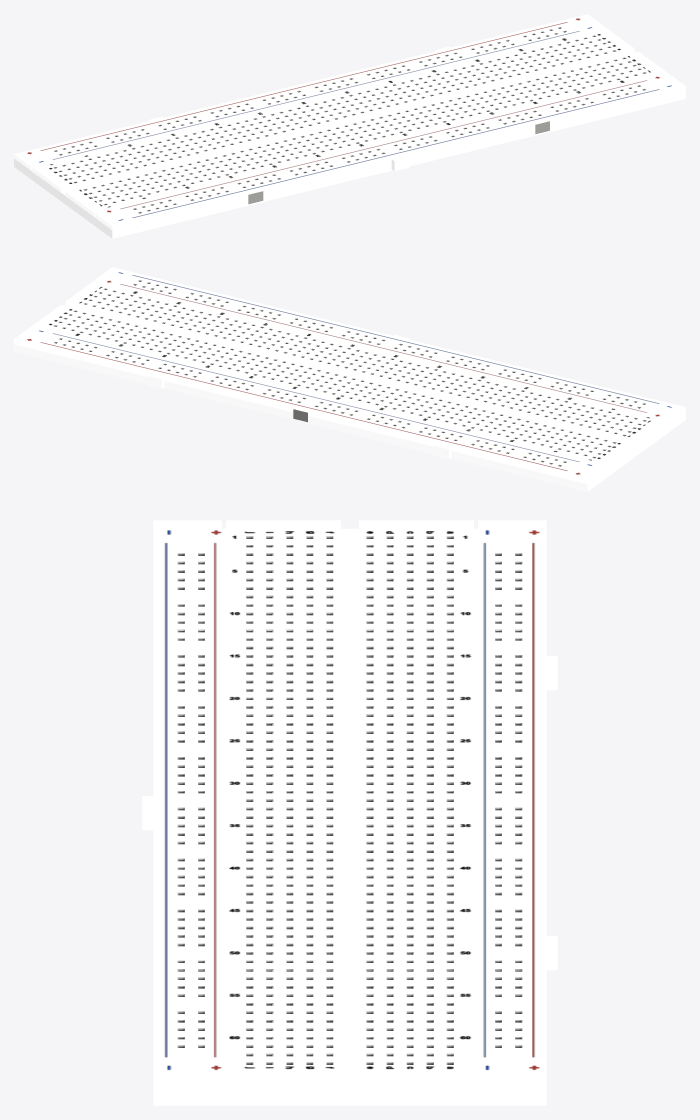
Rendered from breadboard.glb.
3 renders of one model, top to bottom at view 1: azimuth 30°, elevation 25°; view 2: azimuth 150°, elevation 25°; view 3: azimuth 270°, elevation 25°, orthographic. The views are drawn at different scales.
Parts seen in each view (by area): view 1: BreadboardVisual, HoleFunnels, Silkscreen; view 2: BreadboardVisual, HoleFunnels, Silkscreen; view 3: BreadboardVisual, HoleFunnels, Silkscreen.
Part boxes in pixels (box(x1,y1,x2,y2)): BreadboardVisual: box(14, 14, 685, 238); HoleFunnels: box(53, 27, 646, 213); Silkscreen: box(27, 18, 671, 220); BreadboardVisual: box(14, 267, 685, 491); HoleFunnels: box(53, 280, 646, 466); Silkscreen: box(27, 272, 671, 474); BreadboardVisual: box(142, 520, 557, 1105); HoleFunnels: box(177, 536, 522, 1064); Silkscreen: box(165, 530, 539, 1069).
Size of what is drawn, in the model's own units: 66 by 1.41 by 20.7.
9 materials, 1 textured.
